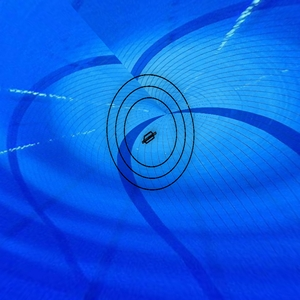circle: (104, 72, 199, 194)
submarine: (141, 129, 161, 148)
